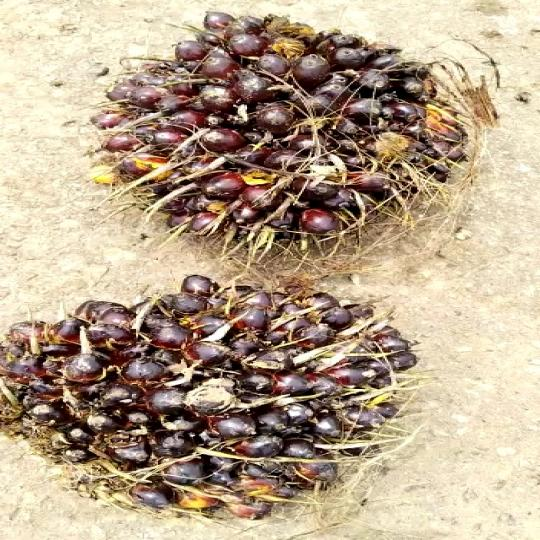kurang masak: (0, 271, 445, 518), (84, 9, 454, 275)
